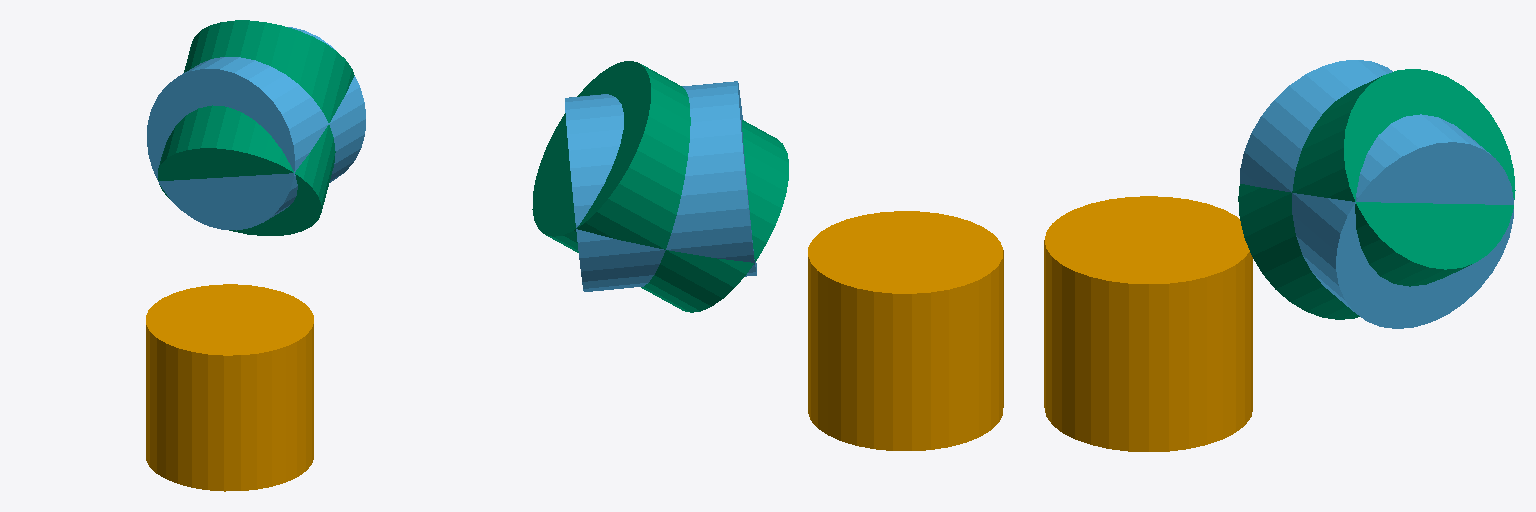
The robot description file, URDF, robot "pepe":
<?xml version="1.0"?><robot name="pepe">
	<link name="0">
		<visual>
			<geometry>
				<cylinder length="0.7893298455281619" radius="0.4449545980872709"/>
			</geometry>
		</visual>
		<collision>
			<geometry>
				<cylinder length="0.7893298455281619" radius="0.4449545980872709"/>
			</geometry>
		</collision>
		<inertial>
			<mass value="0.4909528609240759"/>
			<inertia ixx="0.03" iyy="0.03" izz="0.03" ixy="0" ixz="0" iyx="0"/>
		</inertial>
	</link>
	<link name="11">
		<visual>
			<geometry>
				<cylinder length="0.7893298455281619" radius="0.4449545980872709"/>
			</geometry>
		</visual>
		<collision>
			<geometry>
				<cylinder length="0.7893298455281619" radius="0.4449545980872709"/>
			</geometry>
		</collision>
		<inertial>
			<mass value="0.4909528609240759"/>
			<inertia ixx="0.03" iyy="0.03" izz="0.03" ixy="0" ixz="0" iyx="0"/>
		</inertial>
	</link>
	<link name="12">
		<visual>
			<geometry>
				<cylinder length="0.7893298455281619" radius="0.4449545980872709"/>
			</geometry>
		</visual>
		<collision>
			<geometry>
				<cylinder length="0.7893298455281619" radius="0.4449545980872709"/>
			</geometry>
		</collision>
		<inertial>
			<mass value="0.4909528609240759"/>
			<inertia ixx="0.03" iyy="0.03" izz="0.03" ixy="0" ixz="0" iyx="0"/>
		</inertial>
	</link>
	<joint name="11_to_0" type="revolute">
		<parent link="0"/>
		<child link="11"/>
		<axis xyz="1 0 0"/>
		<limit effort="1" upper="-3.1415" lower="3.1415" velocity="1"/>
		<origin rpy="11.09397827292539 0.26524334692476825 2.146461179100148" xyz="0.7222440661276474 0.9707286802902778 0.9473751457952274"/>
	</joint>
	<joint name="12_to_0" type="revolute">
		<parent link="0"/>
		<child link="12"/>
		<axis xyz="1 0 0"/>
		<limit effort="1" upper="-3.1415" lower="3.1415" velocity="1"/>
		<origin rpy="16.640967409388086 0.26524334692476825 2.146461179100148" xyz="0.7222440661276474 0.9707286802902778 0.9473751457952274"/>
	</joint>
</robot>

--- Render facts (derived) ---
3 views of the same robot in one strip: view 1: azimuth 30°, elevation 25°; view 2: azimuth 150°, elevation 25°; view 3: azimuth 270°, elevation 25° (orthographic).
Model pepe with 3 links and 2 joints (2 revolute), rooted at 0, posed all joints at 0.
Visible links, largest first — view 1: 0, 11, 12; view 2: 0, 12, 11; view 3: 0, 11, 12.
Link boxes in pixels (<box>): 0: <box>146,284,313,491</box>; 11: <box>147,27,365,230</box>; 12: <box>158,20,354,235</box>; 0: <box>808,211,1003,450</box>; 12: <box>532,61,788,312</box>; 11: <box>565,81,756,291</box>; 0: <box>1044,196,1252,451</box>; 11: <box>1240,60,1513,328</box>; 12: <box>1238,69,1515,319</box>.
Bounding box of the posed robot: 1.76 × 2.01 × 1.93 m (x, y, z).
Geometry: primitives only (box / cylinder / sphere), no mesh files.
